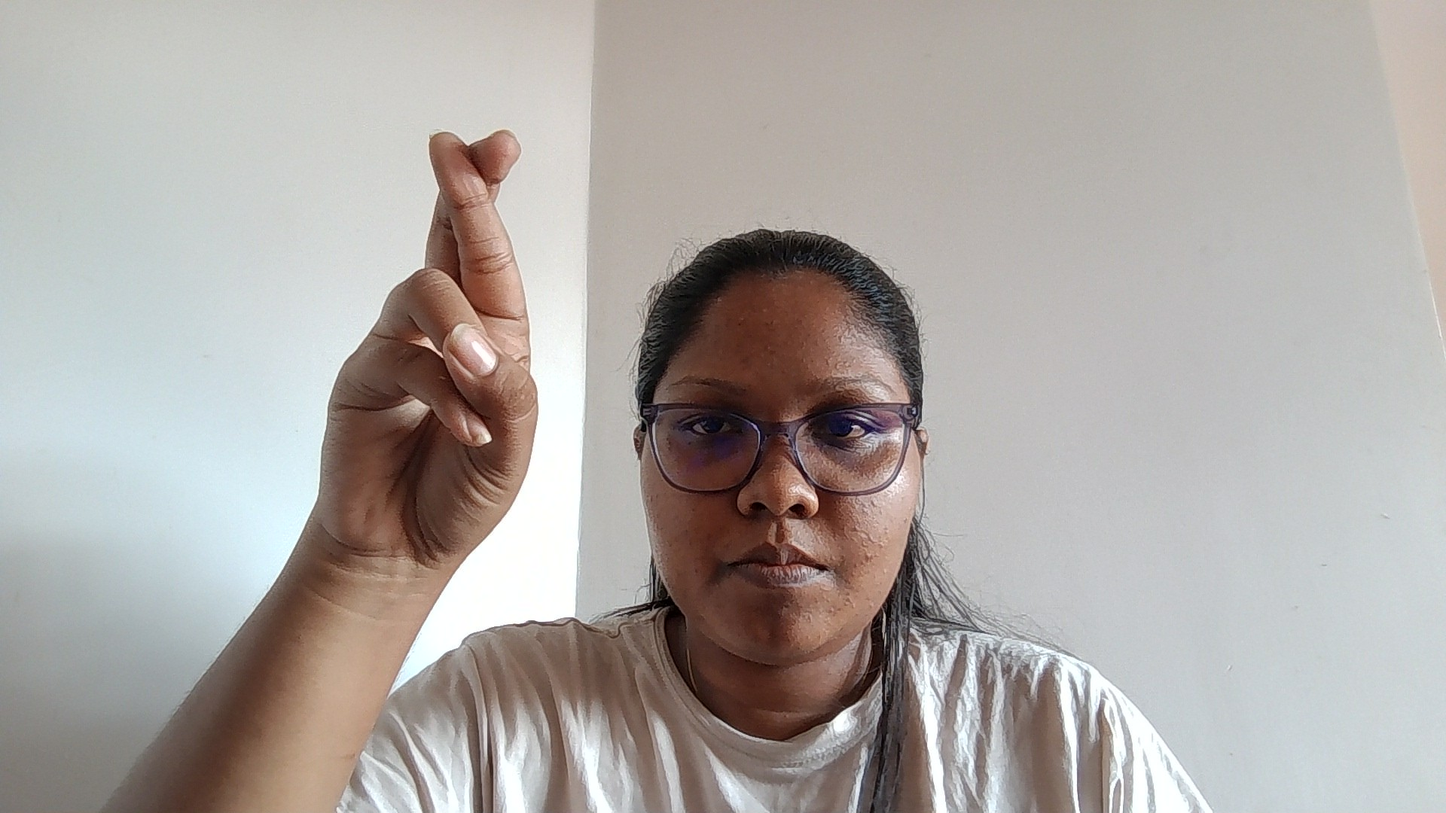Good_Luck: (258, 141, 597, 601)
